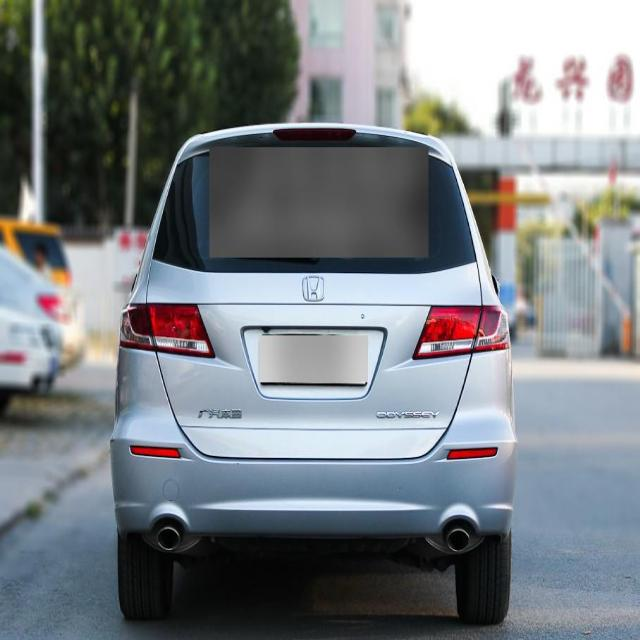back_glass: (150, 133, 478, 277)
back_left_side_light: (117, 298, 217, 362)
back_right_side_light: (411, 302, 512, 364)
rear_bumper: (107, 339, 520, 547)
wheel: (116, 530, 176, 622), (452, 534, 514, 622)
